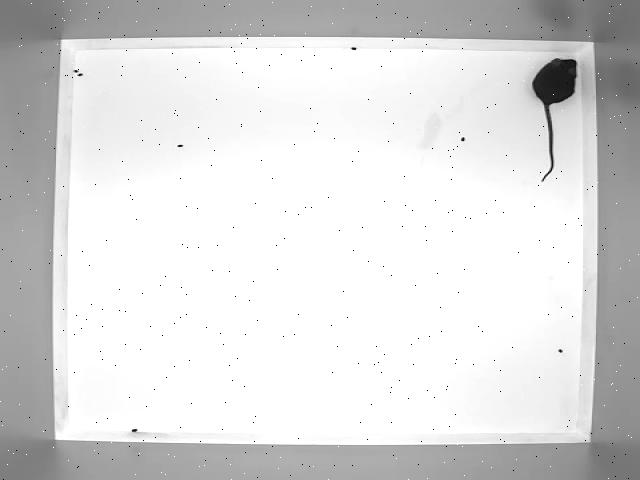Tikus: (531, 55, 583, 184)
